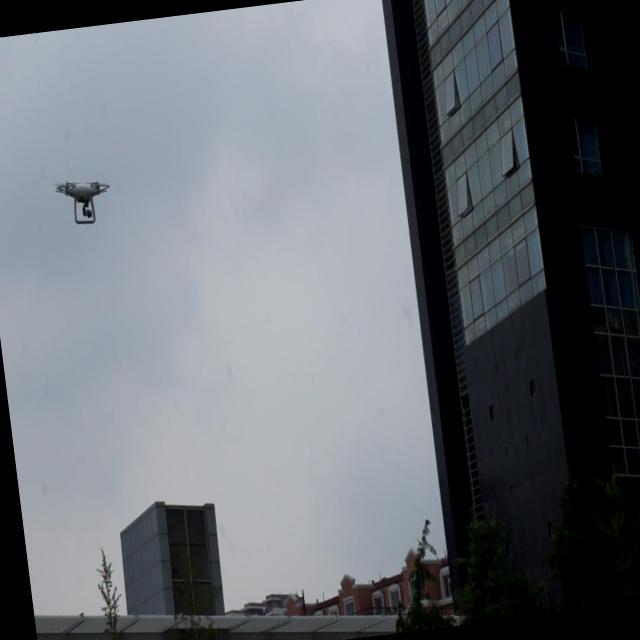drone: (52, 170, 116, 232)
